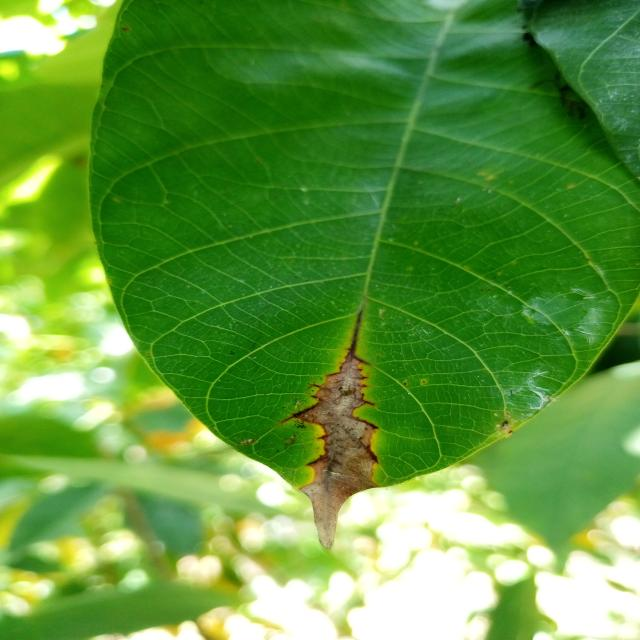Corynespora: (279, 304, 382, 549), (343, 310, 370, 365), (280, 404, 320, 424), (353, 437, 379, 465), (353, 415, 379, 430), (305, 454, 327, 466)
Leaf-Blight: (302, 360, 373, 549)
